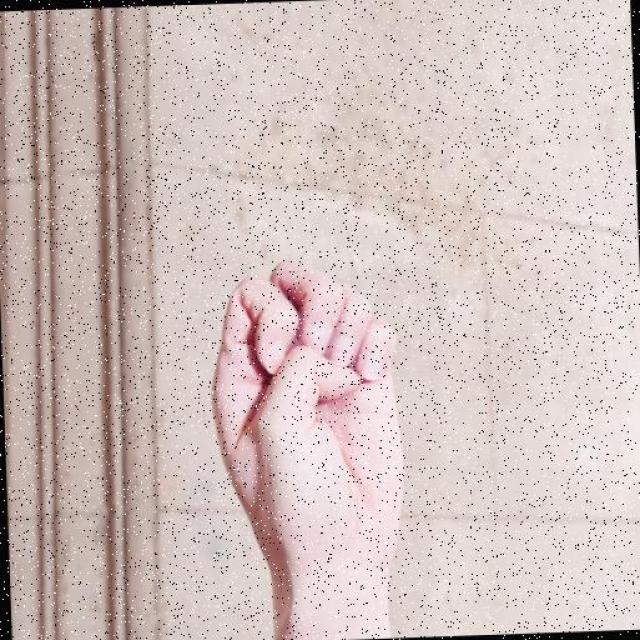E: (203, 254, 412, 571)
